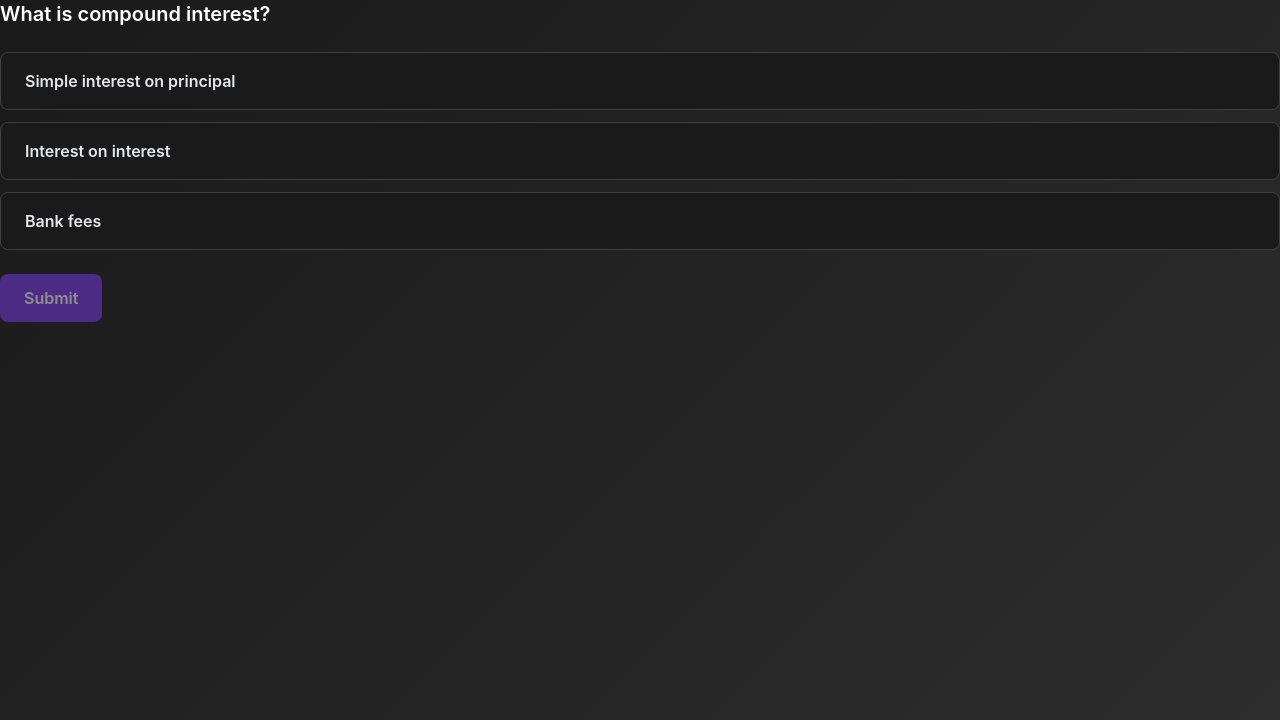
Test: Quiz Component › Option Selection › should enable submit button after selecting an option
The width and height of the screenshot is (1280, 720).
Click the button "Interest on interest" at (98, 151), box [0,122,1279,180]
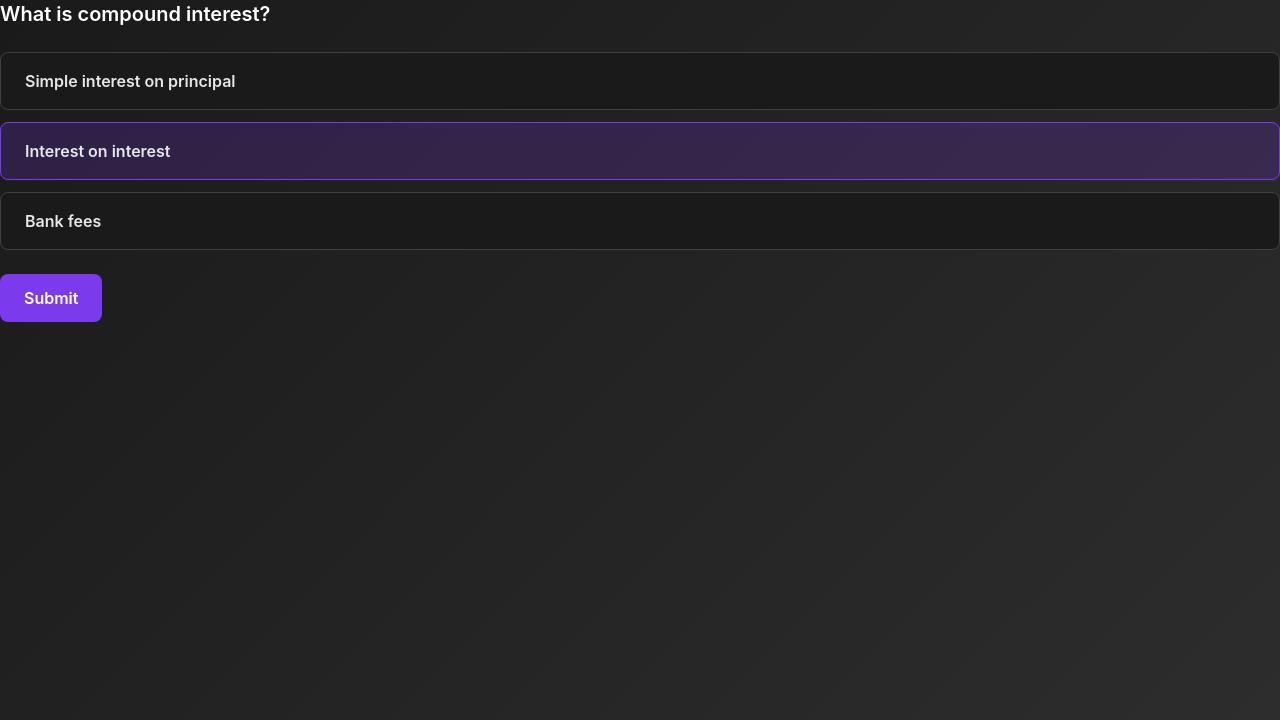
expect the button "Submit" is enabled: met, box [0,274,102,322]
